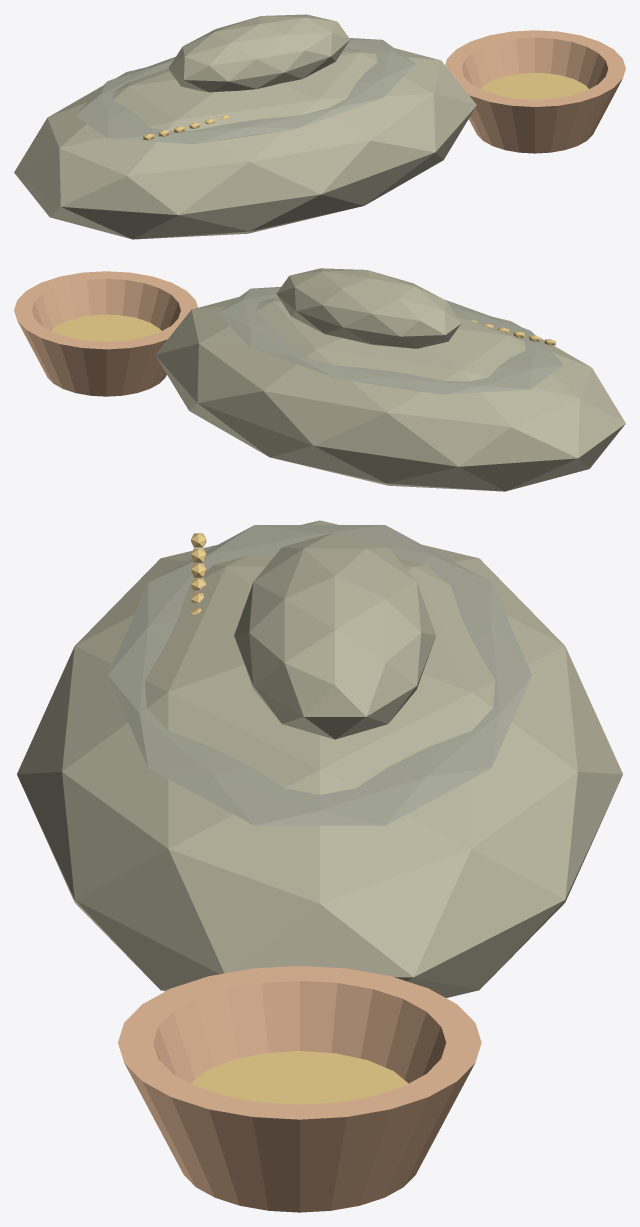
3 views of the same model, one above another, from view 1: azimuth 30°, elevation 25°; view 2: azimuth 150°, elevation 25°; view 3: azimuth 270°, elevation 25° (orthographic). The views are drawn at different scales.
Visible parts, largest first — view 1: GF-029 Saddle quern and meal bowl batched; view 2: GF-029 Saddle quern and meal bowl batched; view 3: GF-029 Saddle quern and meal bowl batched.
Boxes of the visible parts, left/top/right/bottom form: GF-029 Saddle quern and meal bowl batched: left=14, top=14, right=625, bottom=239; GF-029 Saddle quern and meal bowl batched: left=14, top=268, right=625, bottom=491; GF-029 Saddle quern and meal bowl batched: left=17, top=520, right=622, bottom=1212.
Size of the model in its own units: 1.31 by 0.385 by 0.6.
